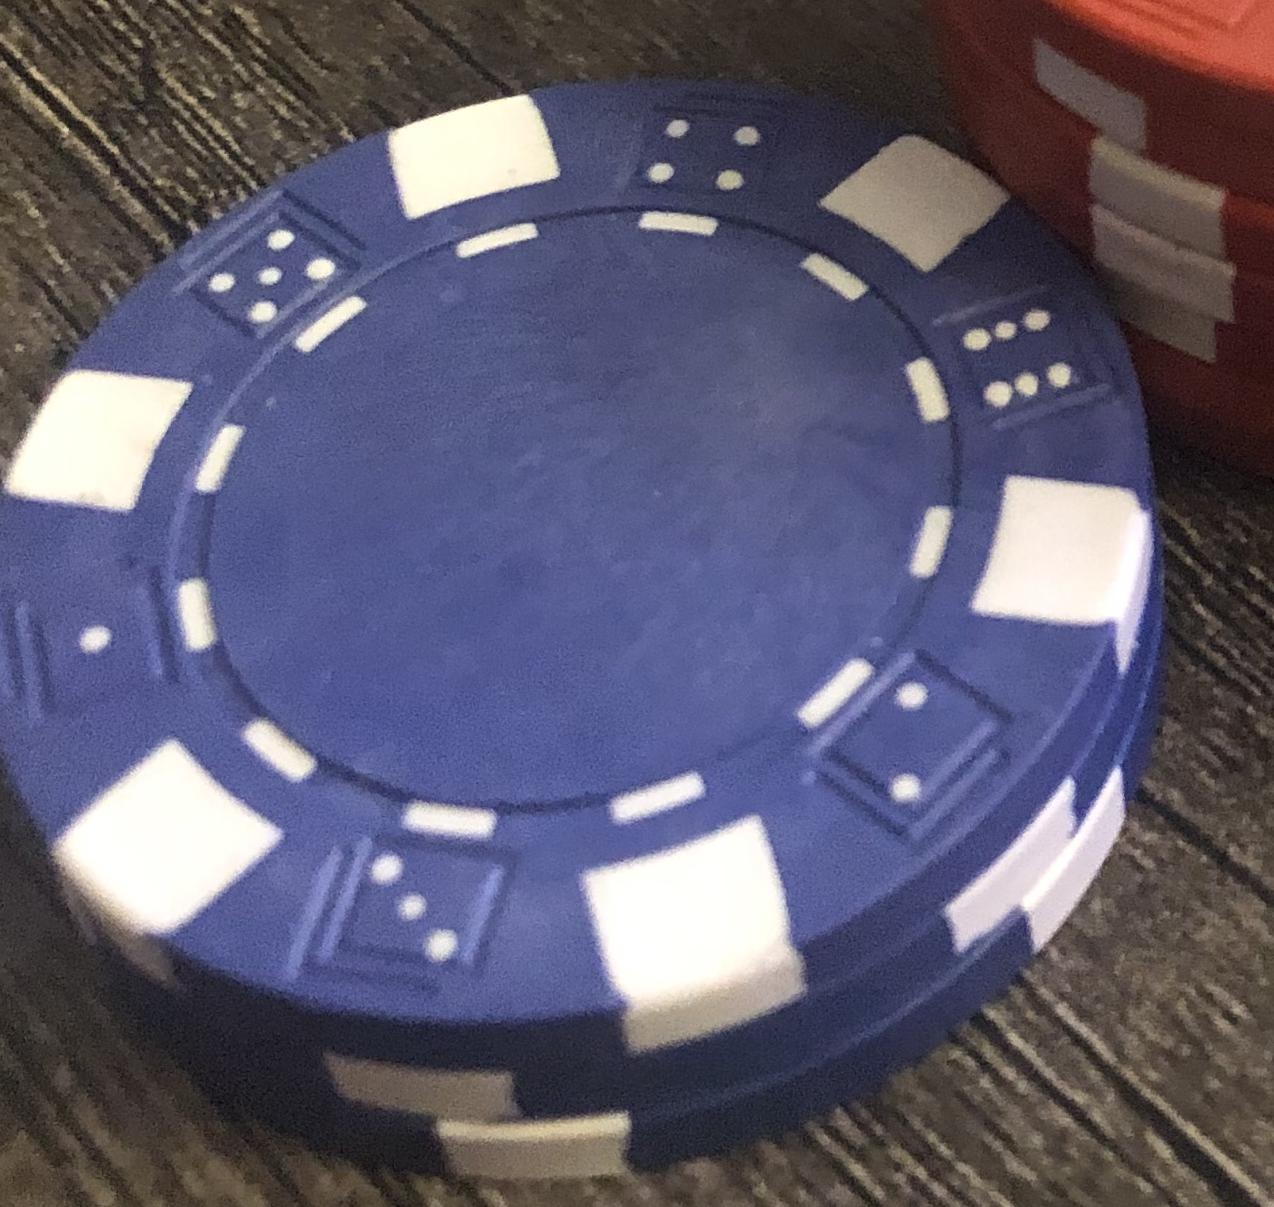Chip: (1, 1, 1274, 1207)
